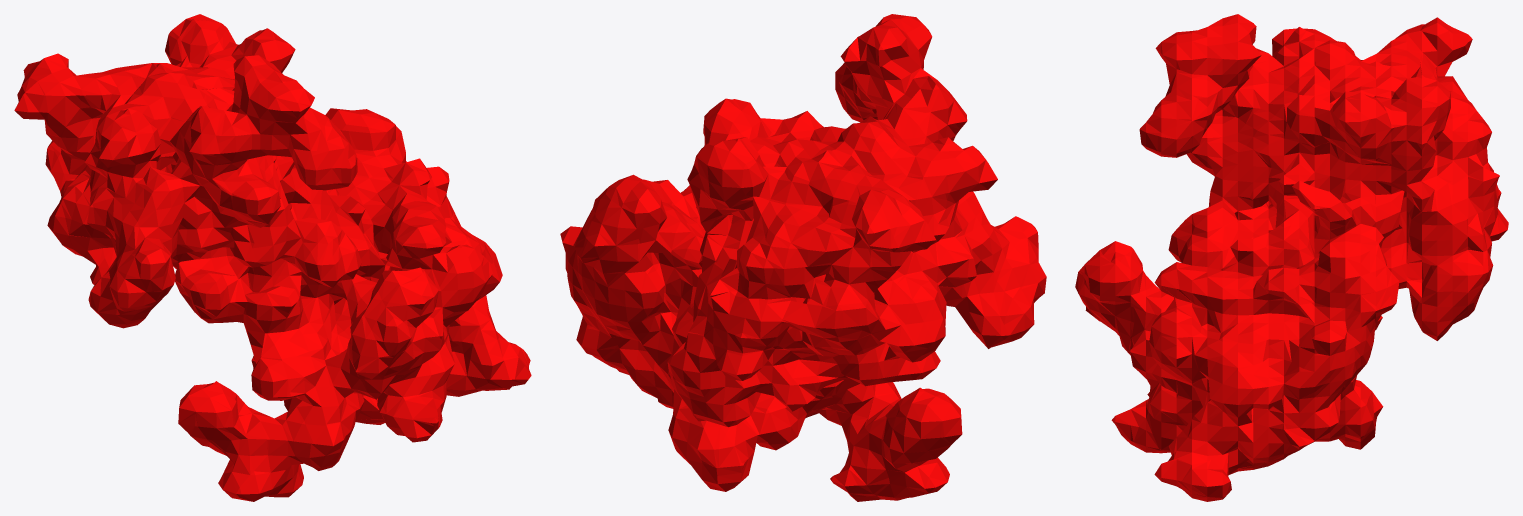
Rendered from rpoD_coarse.dae.
3 renders of one model, left to right at view 1: azimuth 30°, elevation 25°; view 2: azimuth 150°, elevation 25°; view 3: azimuth 270°, elevation 25°, orthographic. The views are drawn at different scales.
Parts seen in each view (by area): view 1: rpoD; view 2: rpoD; view 3: rpoD.
Boxes of the visible parts, x1,y1,x2,y2 form: rpoD: (14, 14, 531, 501); rpoD: (560, 14, 1046, 501); rpoD: (1075, 14, 1508, 501).
Size of the model in its own units: 209 by 216 by 196.
